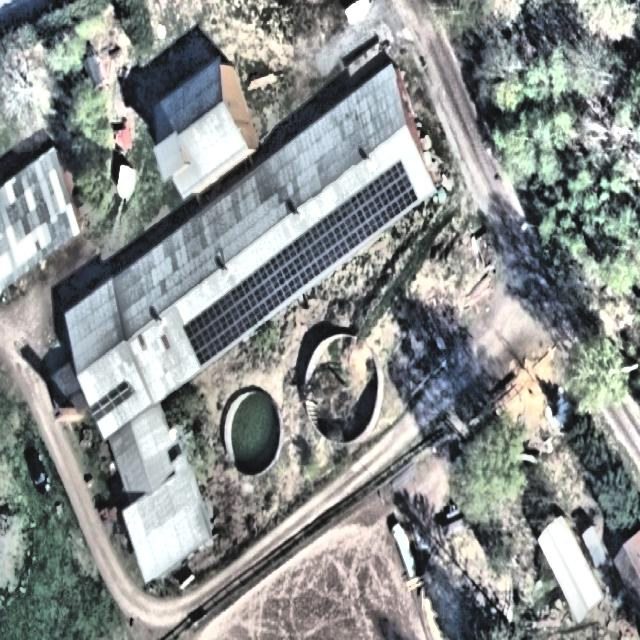roof_pv: (180, 294, 240, 368), (309, 197, 355, 282), (233, 258, 281, 338), (275, 230, 315, 302), (353, 172, 391, 245), (386, 154, 421, 216)
